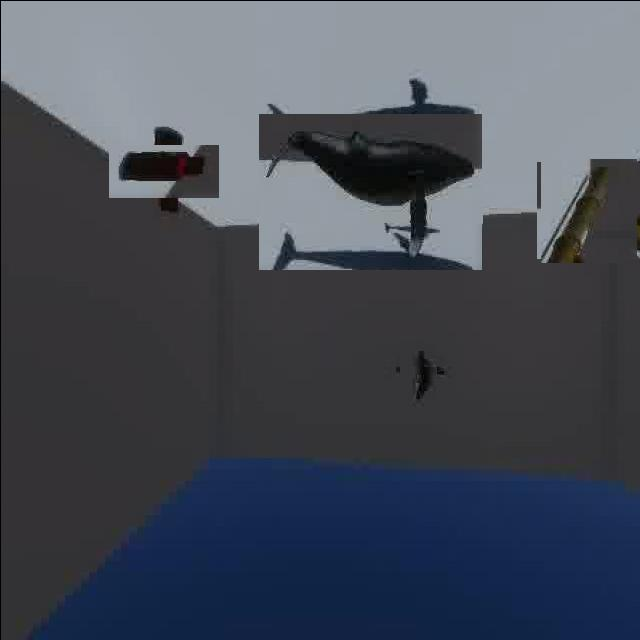Cylinder: (122, 130, 204, 212)
Pipe: (538, 159, 638, 260)
Whale: (258, 113, 482, 270), (392, 346, 443, 398)
